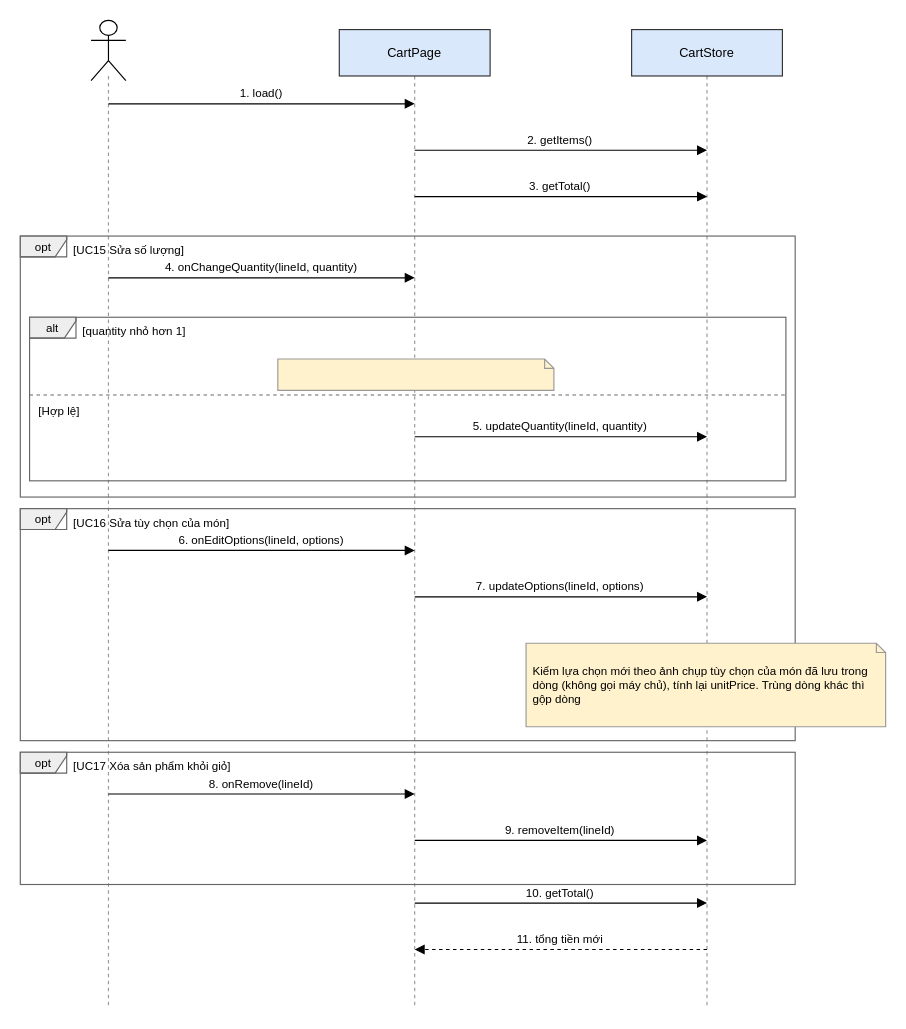
This 906x1029 diagram has some shape labels left out. The centre of each missing label's shape, as x and y in pixels:
"Khách hàng" belongs at point (108, 50).
"Không hợp lệ, dùng nút xóa (UC17)" belongs at point (415, 374).
